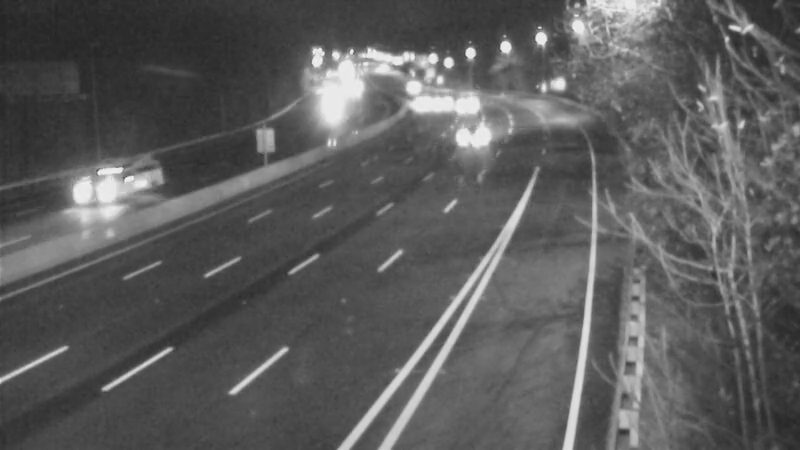vehicle: (67, 149, 147, 229), (382, 59, 432, 109), (413, 73, 463, 123), (400, 80, 450, 130), (440, 80, 490, 130), (443, 107, 493, 157)
